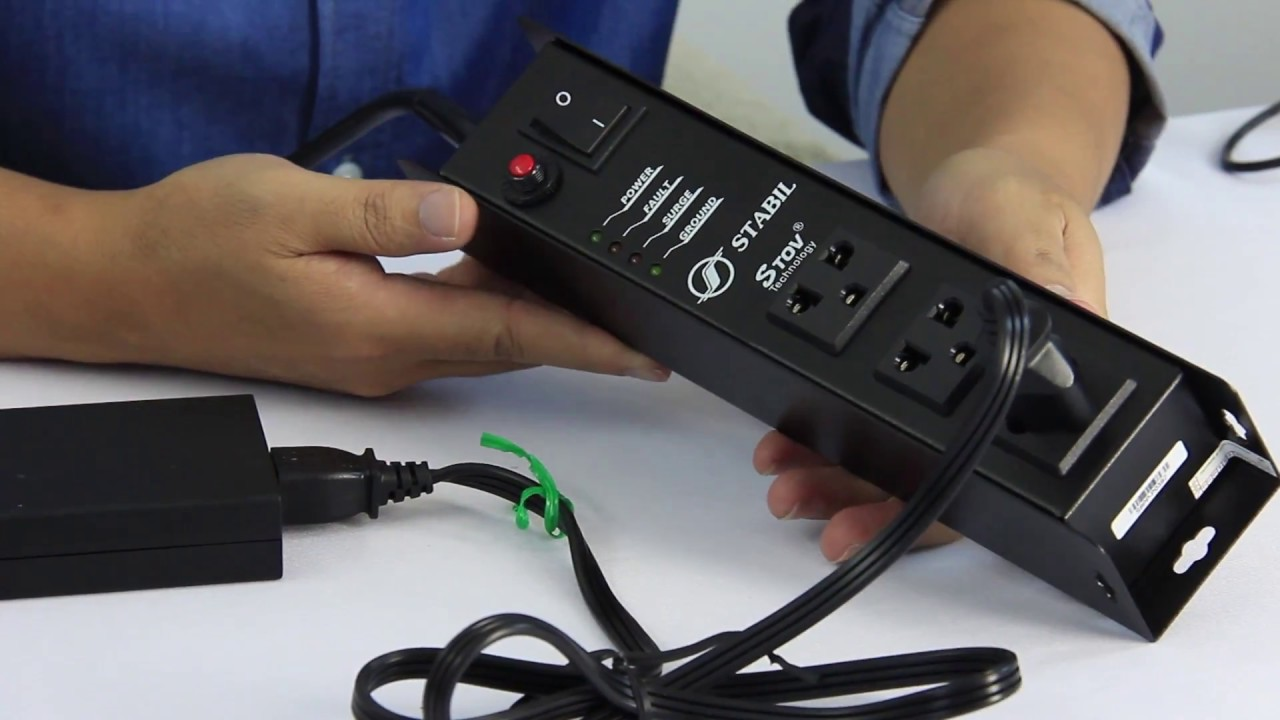Three_eye_plug: (422, 34, 1252, 612)
